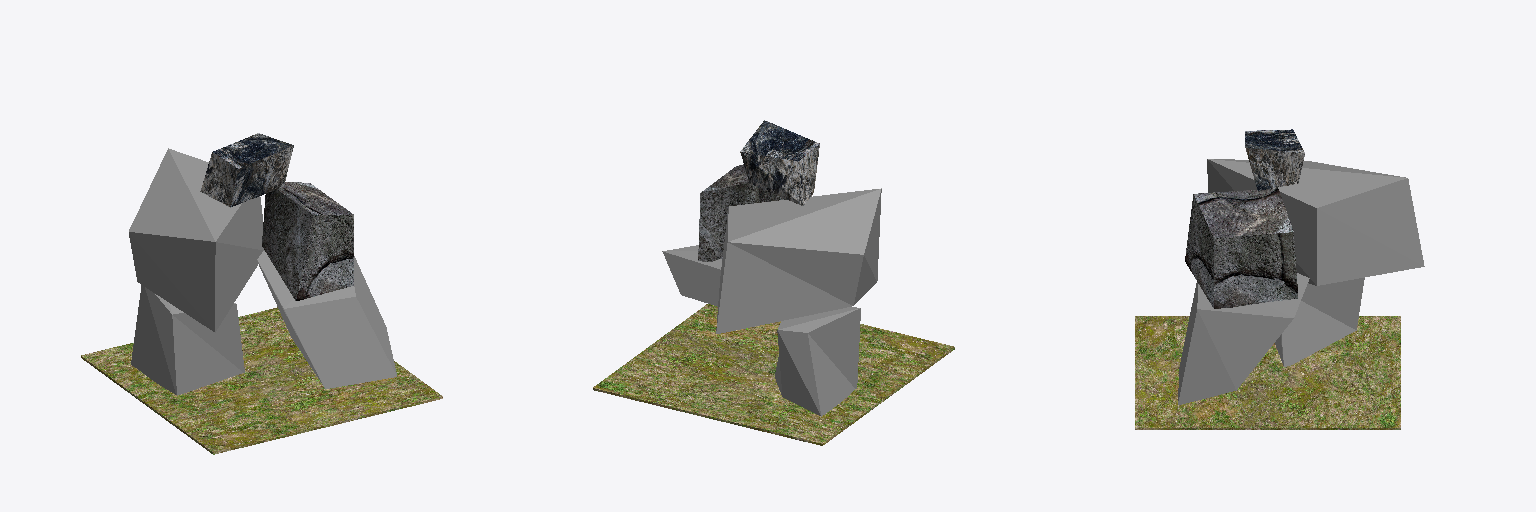
3 views of the same model, side by side, from view 1: azimuth 30°, elevation 25°; view 2: azimuth 150°, elevation 25°; view 3: azimuth 270°, elevation 25° (orthographic).
Visible parts, largest first — view 1: Cube.005, Cube.003, Cube.001, Cube_Cube.004, Cube.004_Cube, Cube.002; view 2: Cube.005, Cube.003, Cube.004_Cube, Cube.002, Cube_Cube.004, Cube.001; view 3: Cube.005, Cube.003, Cube_Cube.004, Cube.001, Cube.004_Cube, Cube.002.
Boxes of the visible parts, <box> form: Cube.005: <box>81,307,442,454</box>; Cube.003: <box>129,148,264,332</box>; Cube.001: <box>257,251,396,388</box>; Cube_Cube.004: <box>262,182,353,300</box>; Cube.004_Cube: <box>131,285,244,395</box>; Cube.002: <box>200,133,293,207</box>; Cube.005: <box>593,304,954,445</box>; Cube.003: <box>716,188,881,333</box>; Cube.004_Cube: <box>775,307,860,416</box>; Cube.002: <box>740,120,819,205</box>; Cube_Cube.004: <box>698,164,811,265</box>; Cube.001: <box>662,245,721,306</box>; Cube.005: <box>1135,316,1400,429</box>; Cube.003: <box>1207,159,1424,285</box>; Cube_Cube.004: <box>1185,188,1297,308</box>; Cube.001: <box>1178,273,1309,404</box>; Cube.004_Cube: <box>1275,278,1364,366</box>; Cube.002: <box>1245,129,1304,190</box>.
Bounding box in the file's own units: 0.6515 × 0.64 × 0.7099.
6 materials, 3 textured.